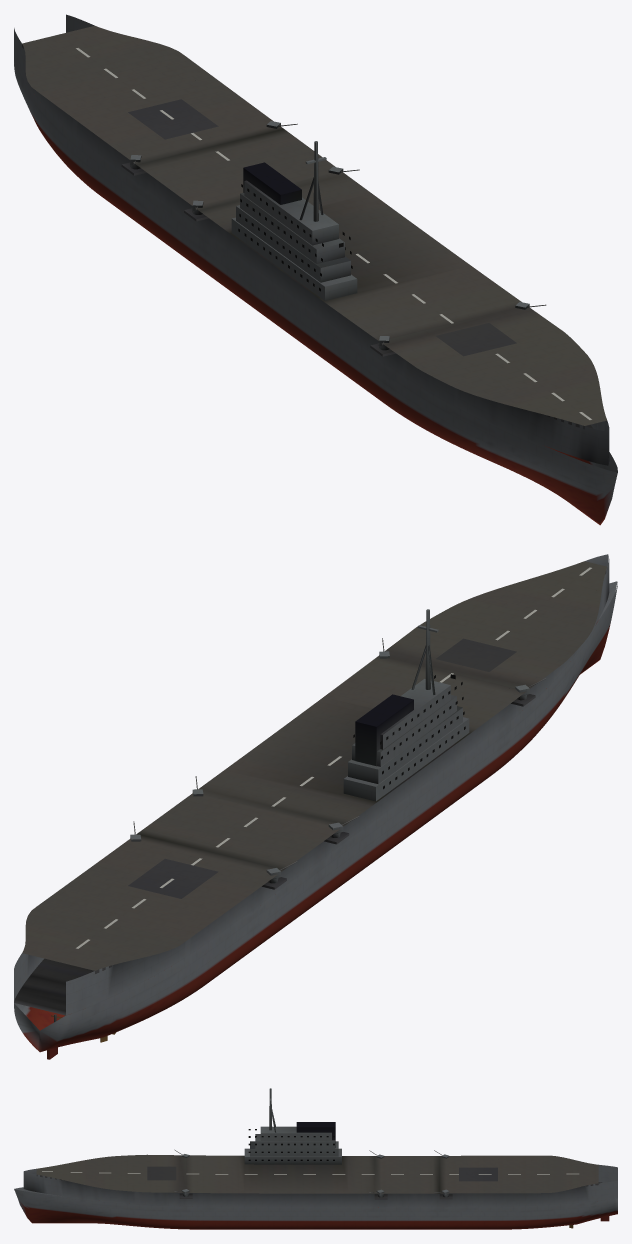
The model's file is model_built.glb.
3 views of the same model, one above another, from view 1: azimuth 30°, elevation 25°; view 2: azimuth 150°, elevation 25°; view 3: azimuth 270°, elevation 25° (orthographic). The views are drawn at different scales.
Visible parts, largest first — view 1: main; view 2: main; view 3: main.
Boxes of the visible parts, bbox=[...] form: main: bbox=[14, 14, 617, 525]; main: bbox=[14, 554, 617, 1059]; main: bbox=[14, 1088, 617, 1229].
Bounding box in the file's own units: 30.51 × 40.91 × 186.
Materials: 1 (1 with a texture image).
